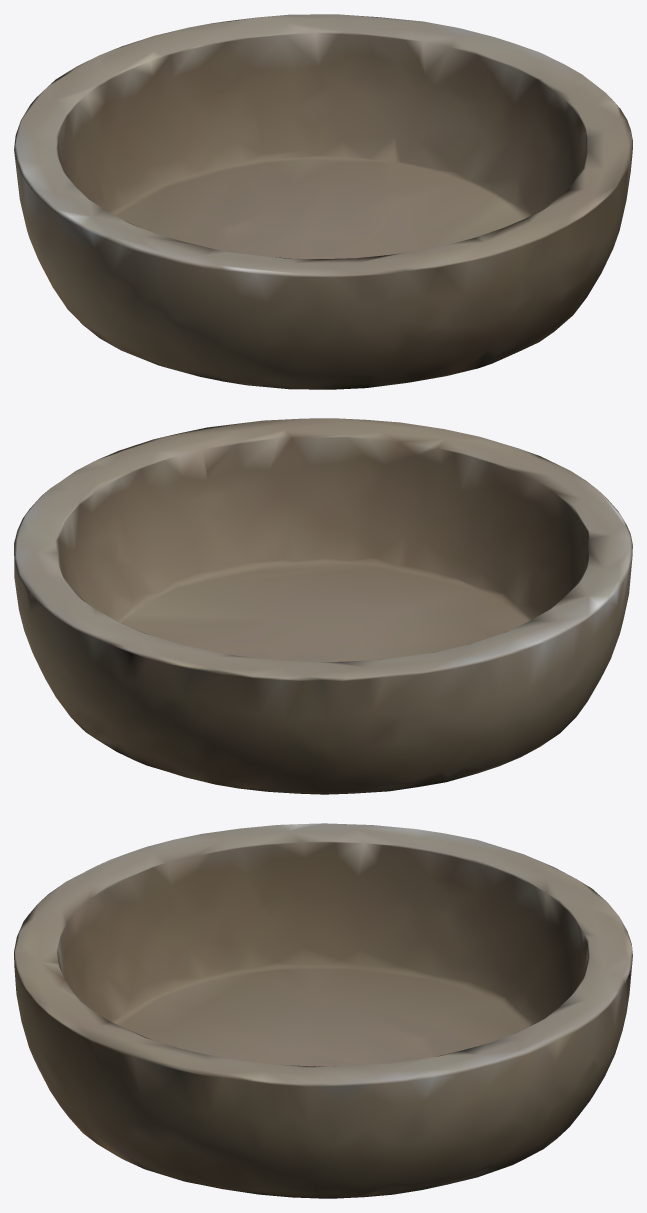
3 renders of one model, top to bottom at view 1: azimuth 30°, elevation 25°; view 2: azimuth 150°, elevation 25°; view 3: azimuth 270°, elevation 25°, orthographic.
Parts seen in each view (by area): view 1: planter-concrete-edge; view 2: planter-concrete-edge; view 3: planter-concrete-edge.
Boxes of the visible parts, box(x1,y1,x2,y2) form: planter-concrete-edge: box(14, 14, 632, 389); planter-concrete-edge: box(14, 418, 632, 794); planter-concrete-edge: box(14, 823, 632, 1198).
Size of the model in its own units: 1.86 by 0.4501 by 1.86.
